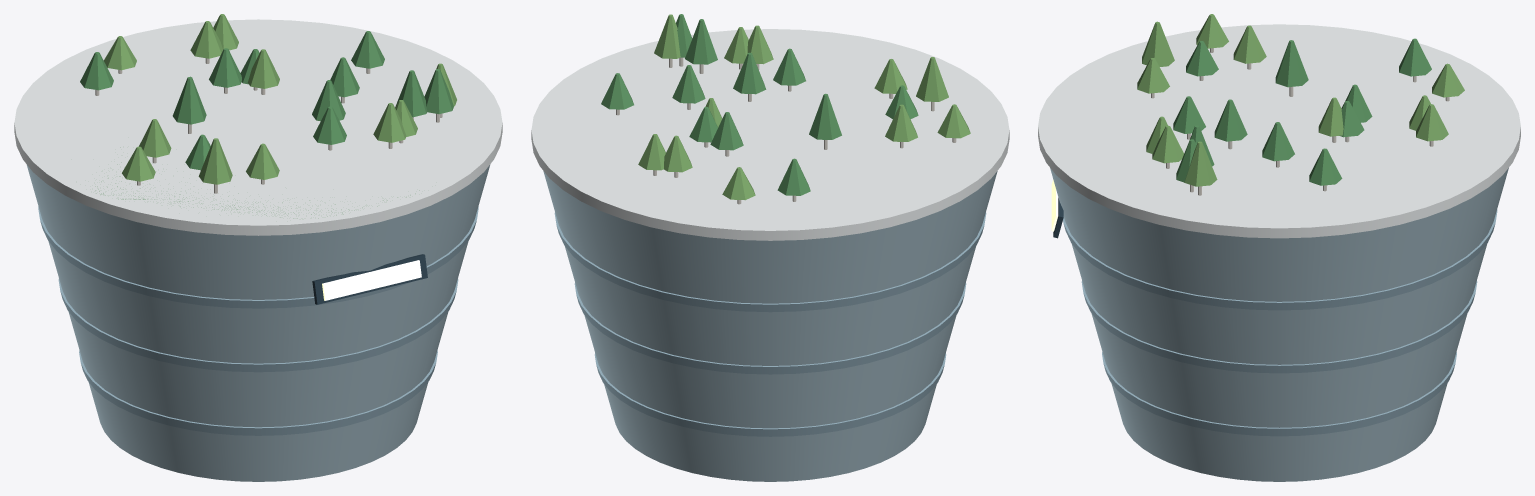
Rendered from depot.glb.
The picture shows the model from 3 angles, left to right: view 1: azimuth 30°, elevation 25°; view 2: azimuth 150°, elevation 25°; view 3: azimuth 270°, elevation 25°; orthographic projection. The views are drawn at different scales.
Visible parts, largest first — view 1: kom, dakrand, band18, band28, band8, atriumlicht, atriumraam, kroon10, kroon7, kroon2, kroon0, kroon13 (+14 smaller); view 2: kom, dakrand, band28, band18, band8, kroon10, kroon12, kroon7, kroon8, kroon18, kroon5, kroon0 (+13 smaller); view 3: kom, dakrand, band28, band18, band8, kroon10, kroon5, kroon8, kroon7, kroon18, kroon17, kroon20 (+11 smaller).
Boxes of the visible parts, x1,y1,x2,y2 form: kom: (26,164,490,481); dakrand: (14,19,502,235); band18: (58,279,458,372); band28: (38,206,478,308); band8: (79,350,437,435); atriumlicht: (322,260,421,300); atriumraam: (312,254,427,304); kroon10: (172,76,206,124); kroon7: (198,138,232,184); kroon2: (424,69,453,114); kroon0: (209,48,241,87); kroon13: (373,103,406,142); kom: (543,171,997,481); dakrand: (531,29,1009,240); band28: (554,212,986,312); band18: (574,283,966,374); band8: (594,353,946,436); kroon10: (809,93,841,139); kroon12: (685,19,717,64); kroon7: (916,57,948,101); kroon8: (733,52,766,94); kroon18: (672,65,705,103); kroon5: (654,14,680,58); kroon0: (710,112,743,150); kom: (1050,168,1508,481); dakrand: (1038,24,1520,238); band28: (1063,209,1497,310); band18: (1081,281,1477,373); band8: (1102,352,1456,436); kroon10: (1275,40,1308,87); kroon5: (1184,141,1217,186); kroon8: (1214,99,1247,141); kroon7: (1142,21,1174,66); kroon18: (1262,122,1294,161); kroon17: (1233,25,1266,63); kroon20: (1399,38,1431,76).
Size of the model in its own units: 61.2 by 48.1 by 61.2.
